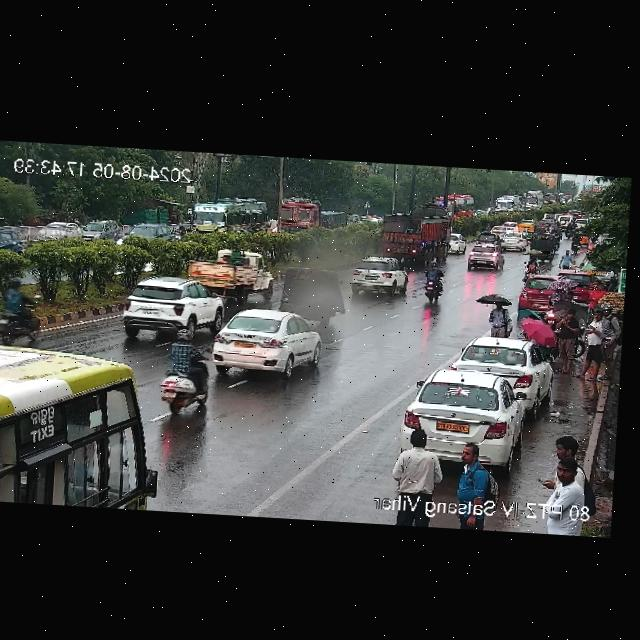bus: (0, 343, 155, 510), (187, 196, 269, 238), (489, 190, 547, 215), (435, 192, 478, 217)
car: (395, 367, 543, 467), (209, 308, 320, 380), (113, 276, 226, 338), (454, 336, 551, 396), (184, 249, 275, 298), (350, 257, 411, 294), (520, 270, 557, 312), (122, 221, 183, 245), (460, 246, 505, 271), (0, 218, 21, 260), (526, 233, 557, 260), (496, 232, 531, 252), (515, 222, 537, 236)
motorcycle: (417, 264, 444, 303), (569, 234, 583, 254)
person: (159, 329, 205, 415), (541, 435, 593, 506), (390, 431, 440, 500), (537, 463, 589, 511), (573, 311, 608, 380), (457, 446, 496, 507), (0, 282, 39, 335), (550, 310, 579, 373), (486, 301, 515, 338), (587, 281, 604, 313), (516, 311, 535, 339), (556, 249, 581, 270), (520, 255, 540, 278)
truck: (375, 202, 455, 261), (265, 201, 341, 240)
